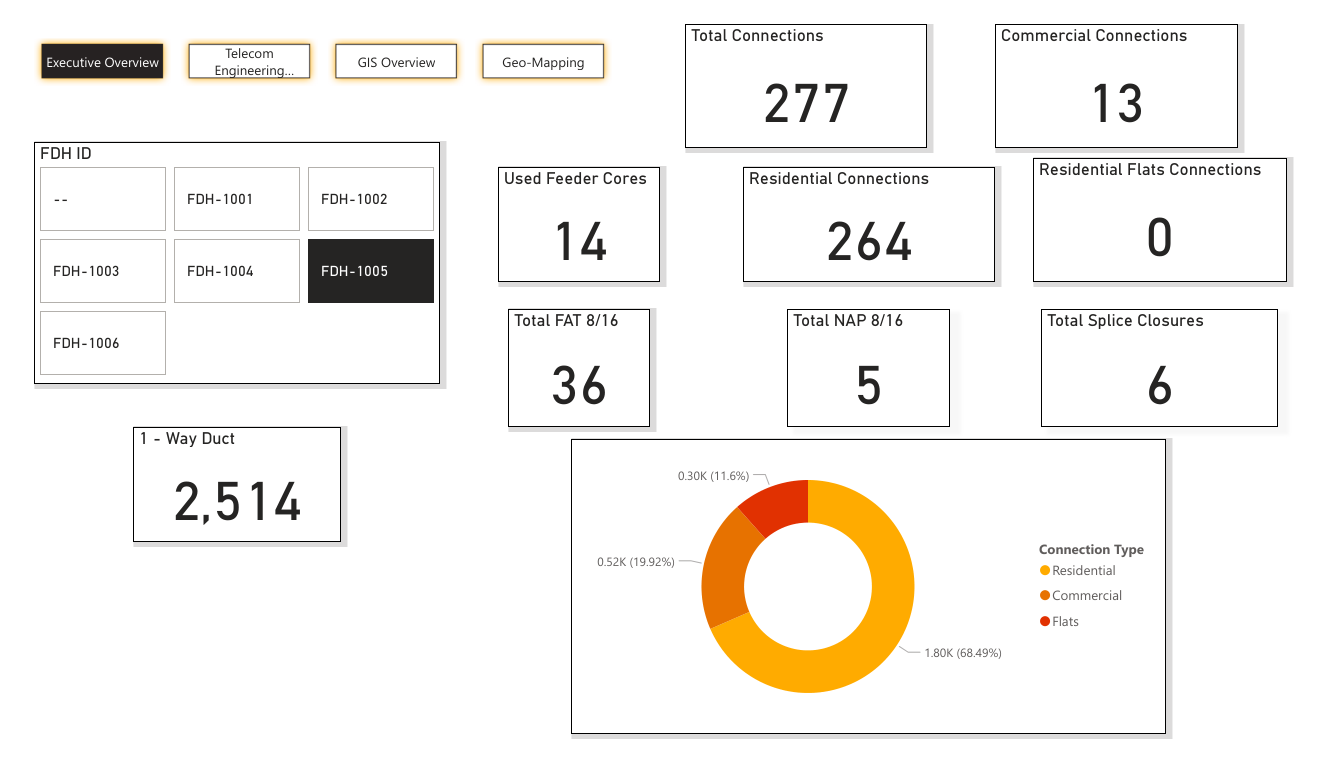

The page's visual inventory and layout, read from the dashboard file:
{"tool":"powerbi","page":{"name":"Executive Overview","canvas":[1280,720],"ordinal":0},"visuals":[{"type":"advancedSlicerVisual","fields":{"Values":["BOQ_Summary.FDH ID"]},"box":[10.1,118.1,406.1,241.9],"z":0},{"type":"card","title":"1 - Way Duct","fields":{"Values":["Sum(BOQ_Summary.Duct 1-Way New)"]},"box":[109.4,403.2,207.4,115.2],"z":1000},{"type":"card","title":"Total NAP 8/16","fields":{"Values":["Sum(BOQ_Summary.Total FAT)"]},"box":[763.2,285.1,162.7,118.1],"z":2000},{"type":"card","title":"Total FAT 8/16","fields":{"Values":["Sum(BOQ_Summary.Total NAP)"]},"box":[483.8,285.1,142.6,118.1],"z":3000},{"type":"card","title":"Total Connections","fields":{"Values":["Sum(BOQ_Summary.Total Connections)"]},"box":[661,0,241.9,123.8],"z":4000},{"type":"card","title":"Residential Connections","fields":{"Values":["Sum(BOQ_Summary.Residential Connections)"]},"box":[718.6,142.6,252,115.2],"z":5000},{"type":"card","title":"Commercial Connections","fields":{"Values":["Sum(BOQ_Summary.Total Commercial Connections)"]},"box":[970.6,0,243.4,123.8],"z":6000},{"type":"card","title":"Residential Flats Connections","fields":{"Values":["Sum(BOQ_Summary.Total Flat Connections)"]},"box":[1009.4,133.9,253.4,123.8],"z":7000},{"type":"card","title":"Used Feeder Cores","fields":{"Values":["Sum(BOQ_Summary.Used Cores)"]},"box":[473.8,142.6,162.7,115.2],"z":8000},{"type":"donutChart","fields":{"Y":["Sum(Table.Count)"],"Category":["Table.Connection Type"]},"box":[547.2,414.7,594.7,295.2],"z":10000},{"type":"card","title":"Total Splice Closures","fields":{"Values":["Sum(BOQ_Summary.Total Joint Closures)"]},"box":[1016.6,285.1,237.6,118.1],"z":11000},{"type":"pageNavigator","box":[10.1,11.5,581.8,50.4],"z":11501}]}

Visuals, with their boxes in screenshot pixels (x1, y1, x2, y2), scaled from the page's 1280x720 canvas onto the 1328x768 screenshot:
advancedSlicerVisual - BOQ_Summary.FDH ID: rect(10, 126, 432, 384)
"1 - Way Duct" card: rect(114, 430, 329, 553)
"Total NAP 8/16" card: rect(792, 304, 961, 430)
"Total FAT 8/16" card: rect(502, 304, 650, 430)
"Total Connections" card: rect(686, 0, 937, 132)
"Residential Connections" card: rect(746, 152, 1007, 275)
"Commercial Connections" card: rect(1007, 0, 1260, 132)
"Residential Flats Connections" card: rect(1047, 143, 1310, 275)
"Used Feeder Cores" card: rect(492, 152, 660, 275)
donutChart - Sum(Table.Count) x Table.Connection Type: rect(568, 442, 1185, 757)
"Total Splice Closures" card: rect(1055, 304, 1301, 430)
pageNavigator: rect(10, 12, 614, 66)
